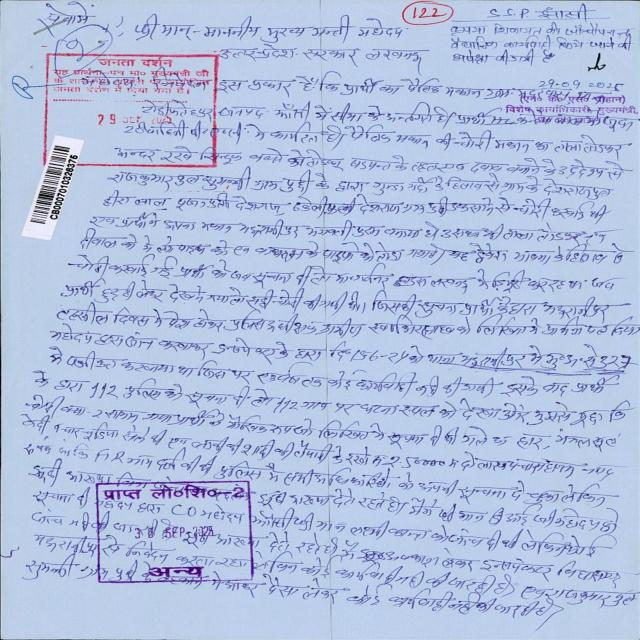antritgovtstamp: (93, 482, 255, 588)
barcode: (20, 132, 86, 245)
jantadarsan: (46, 53, 218, 167)
signnamestamp: (504, 45, 640, 120)
